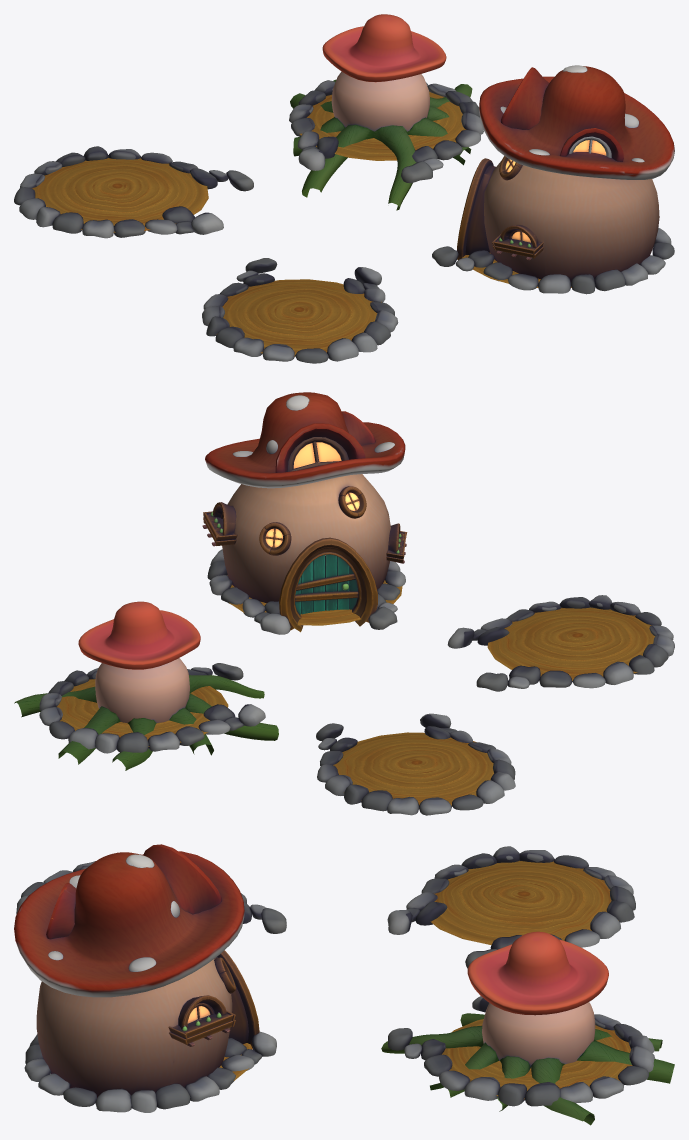
File: Terrain02.gltf
3 renders of one model, top to bottom at view 1: azimuth 30°, elevation 25°; view 2: azimuth 150°, elevation 25°; view 3: azimuth 270°, elevation 25°, orthographic. The views are drawn at different scales.
Parts seen in each view (by area): view 1: GnomeHouse, GnomeRockGarden, GnomeHouse02, DirtPile.001, DirtPile, DirtPile.002; view 2: GnomeHouse, GnomeRockGarden, GnomeHouse02, DirtPile, DirtPile.001, DirtPile.002, DirtPile.003; view 3: GnomeHouse, GnomeHouse02, GnomeRockGarden, DirtPile.001, DirtPile.002.
Part boxes in pixels (<box>): GnomeHouse: <box>432,65,674,294</box>; GnomeRockGarden: <box>14,80,483,363</box>; GnomeHouse02: <box>290,14,472,210</box>; DirtPile.001: <box>32,158,208,232</box>; DirtPile: <box>216,279,381,356</box>; DirtPile.002: <box>299,91,466,160</box>; GnomeHouse: <box>202,392,407,634</box>; GnomeRockGarden: <box>39,595,674,815</box>; GnomeHouse02: <box>14,601,278,770</box>; DirtPile: <box>487,607,654,680</box>; DirtPile.001: <box>333,732,493,805</box>; DirtPile.002: <box>56,679,228,746</box>; DirtPile.003: <box>227,575,402,625</box>; GnomeHouse: <box>14,844,276,1112</box>; GnomeHouse02: <box>381,931,674,1125</box>; GnomeRockGarden: <box>16,846,655,1106</box>; DirtPile.001: <box>430,860,618,945</box>; DirtPile.002: <box>442,1019,632,1099</box>.
Size of the model in its own units: 10.18 by 4.31 by 10.91.
Materials: 8 (8 with a texture image).
